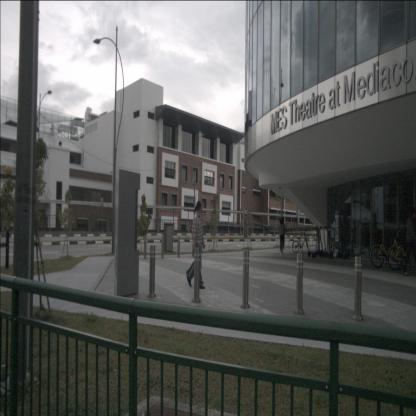human-pedestrian-adult: (186, 201, 206, 289), (186, 206, 203, 284), (402, 206, 416, 277), (279, 216, 286, 257)
vehicle-bicycle: (370, 225, 402, 271), (387, 226, 416, 272), (292, 231, 310, 253)
